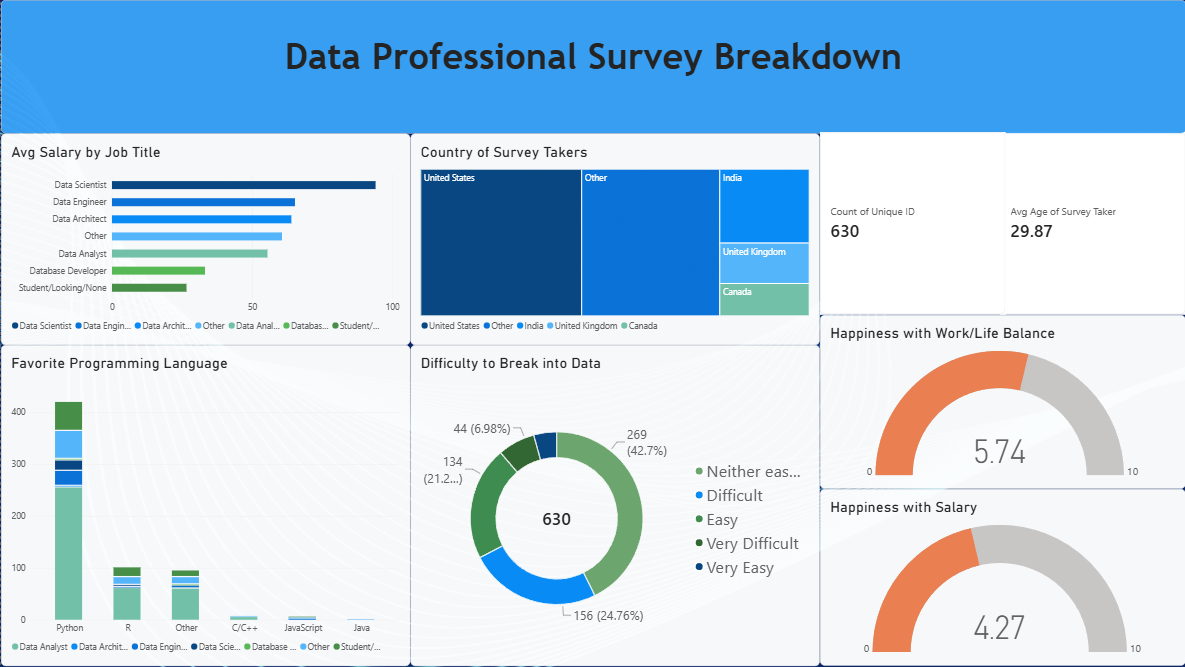

What the dashboard file says about the page in this screenshot:
{"tool":"powerbi","page":{"name":"Page 1","canvas":[1920,1080],"ordinal":0},"visuals":[{"type":"advanceCardE03760C5AB684758B56AA29F9E6C257B","fields":{"mainMeasure":["Avg(Data Professional Survey.Q10 - Current Age)"]},"box":[1617.7,214.7,300.6,295.9],"z":1000},{"type":"barChart","title":"Avg Salary by Job Title","fields":{"Category":["Data Professional Survey.Q1 - Which Title Best Fits your Current Role?.1"],"Series":["Data Professional Survey.Q1 - Which Title Best Fits your Current Role?.1"],"Y":["Avg(Data Professional Survey.Average Salary)"]},"box":[0,215.7,662.9,342.6],"z":2000},{"type":"columnChart","title":"Favorite Programming Language","fields":{"Category":["Data Professional Survey.Q5 - Favorite Programming Language.1"],"Series":["Data Professional Survey.Q1 - Which Title Best Fits your Current Role?.1"],"Y":["CountNonNull(Data Professional Survey.Unique ID)"]},"box":[0,558.2,662.9,520.2],"z":3000},{"type":"treemap","title":"Country of Survey Takers","fields":{"Group":["Data Professional Survey.Q11 - Which Country do you live in?.1"],"Values":["CountNonNull(Data Professional Survey.Q11 - Which Country do you live in?.1)"]},"box":[662.9,215.7,662.9,342.6],"z":4000},{"type":"gauge","title":"Happiness with Work/Life Balance","fields":{"MaxValue":["Max(Data Professional Survey.Q6 - How Happy are you in your Current Position with the following? (Work/Life Balance))"],"MinValue":["Min(Data Professional Survey.Q6 - How Happy are you in your Current Position with the following? (Work/Life Balance))"],"Y":["Avg(Data Professional Survey.Q6 - How Happy are you in your Current Position with the following? (Work/Life Balance))"]},"box":[1326.6,510.6,591.7,281.5],"z":5000},{"type":"gauge","title":"Happiness with Salary","fields":{"MaxValue":["Max(Data Professional Survey.Q6 - How Happy are you in your Current Position with the following? (Salary))"],"MinValue":["Min(Data Professional Survey.Q6 - How Happy are you in your Current Position with the following? (Salary))"],"Y":["Avg(Data Professional Survey.Q6 - How Happy are you in your Current Position with the following? (Salary))"]},"box":[1326.6,792.1,591.7,286.3],"z":6000},{"type":"donutChart","title":"Difficulty to Break into Data","fields":{"Category":["Data Professional Survey.Q7 - How difficult was it for you to break into Data?"],"Y":["CountNonNull(Data Professional Survey.Q7 - How difficult was it for you to break into Data?)"]},"box":[662.9,558.2,662.9,520.2],"z":7000},{"type":"textbox","box":[0.5,0,1919,215.7],"z":8000},{"type":"advanceCardE03760C5AB684758B56AA29F9E6C257B","fields":{"mainMeasure":["Count(Data Professional Survey.Unique ID)"]},"box":[1326.6,214.7,300.6,295.9],"z":8001}]}

Visuals, with their boxes in screenshot pixels (x1, y1, x2, y2), scaled from the page's 1920x1080 canvas onto the 1185x667 screenshot:
advanceCardE03760C5AB684758B56AA29F9E6C257B - Avg(Data Professional Survey.Q10 - Current Age): 998/133/1184/315
"Avg Salary by Job Title" barChart: 0/133/409/345
"Favorite Programming Language" columnChart: 0/345/409/666
"Country of Survey Takers" treemap: 409/133/818/345
"Happiness with Work/Life Balance" gauge: 819/315/1184/489
"Happiness with Salary" gauge: 819/489/1184/666
"Difficulty to Break into Data" donutChart: 409/345/818/666
textbox: 0/0/1184/133
advanceCardE03760C5AB684758B56AA29F9E6C257B - Count(Data Professional Survey.Unique ID): 819/133/1004/315
